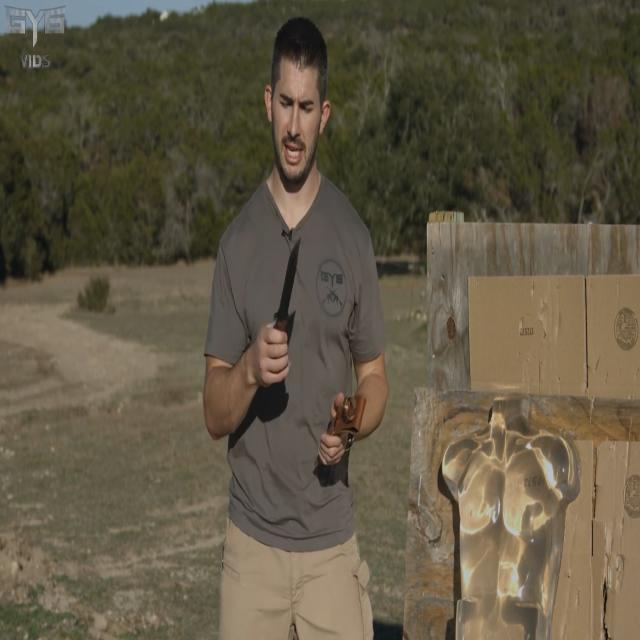knife: (276, 226, 304, 339)
